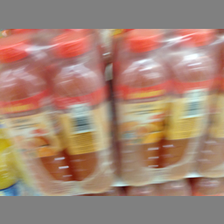juice: (1, 38, 70, 189), (47, 33, 112, 187), (111, 30, 167, 180)
